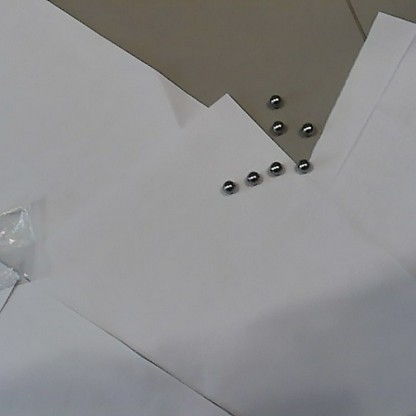ironball: (267, 118, 286, 135), (297, 120, 316, 137), (267, 159, 283, 177), (243, 169, 261, 185), (267, 89, 282, 108), (218, 178, 235, 194), (296, 156, 310, 172)
